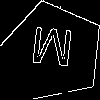M: (28, 26, 75, 77)
